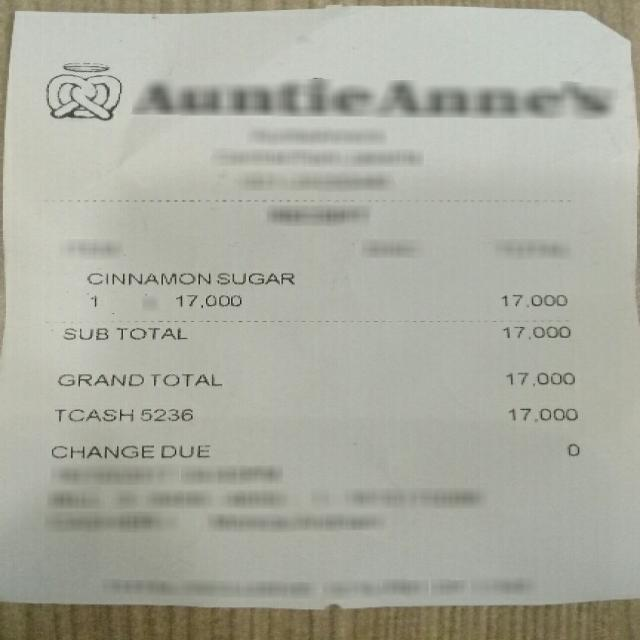kertas: (4, 4, 638, 610)
